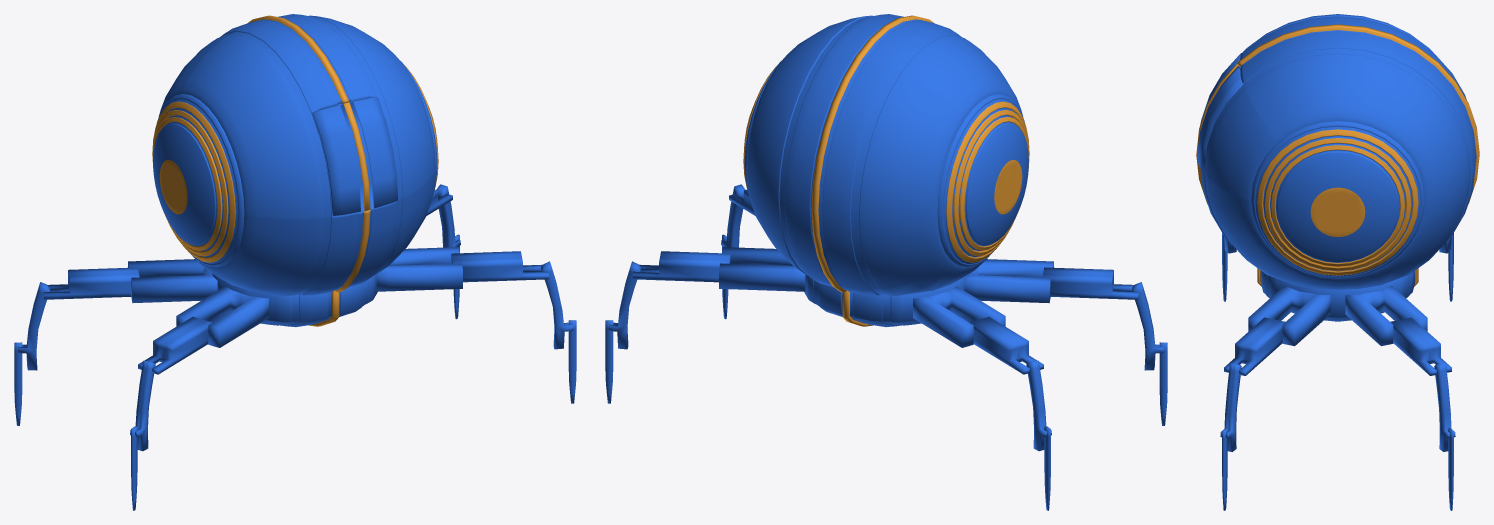
The model's file is Animacions_robot _2.fbx.
3 views of the same model, side by side, from view 1: azimuth 30°, elevation 25°; view 2: azimuth 150°, elevation 25°; view 3: azimuth 270°, elevation 25° (orthographic). The views are drawn at different scales.
Parts seen in each view (by area): view 1: LP; view 2: LP; view 3: LP.
Boxes of the visible parts, x1,y1,x2,y2 form: LP: [14, 14, 576, 510]; LP: [605, 14, 1167, 510]; LP: [1196, 14, 1479, 510].
Size of the model in its own units: 359 by 299 by 202.
